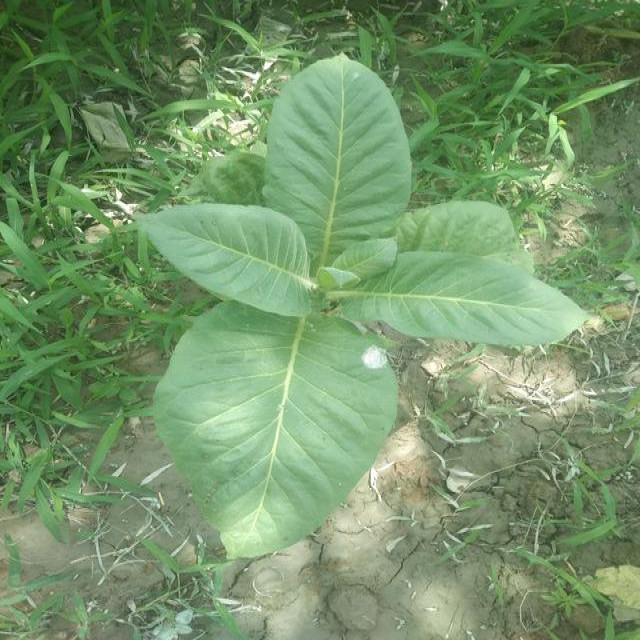crop: (146, 49, 584, 557)
